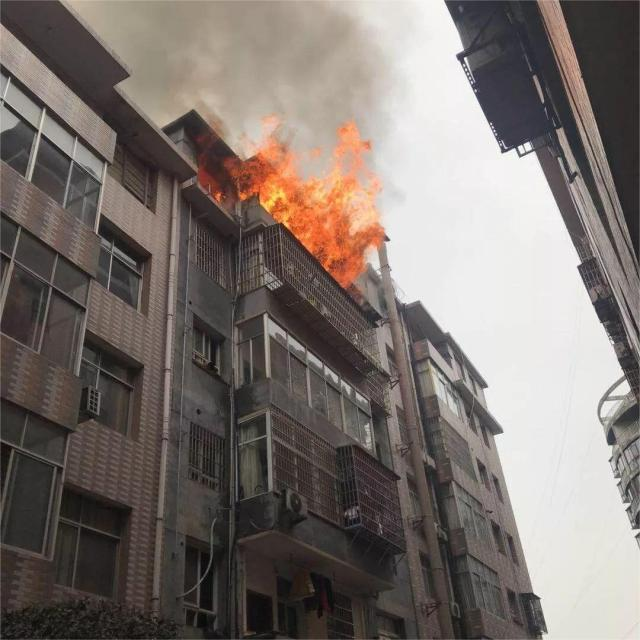Fire: (201, 118, 391, 289)
